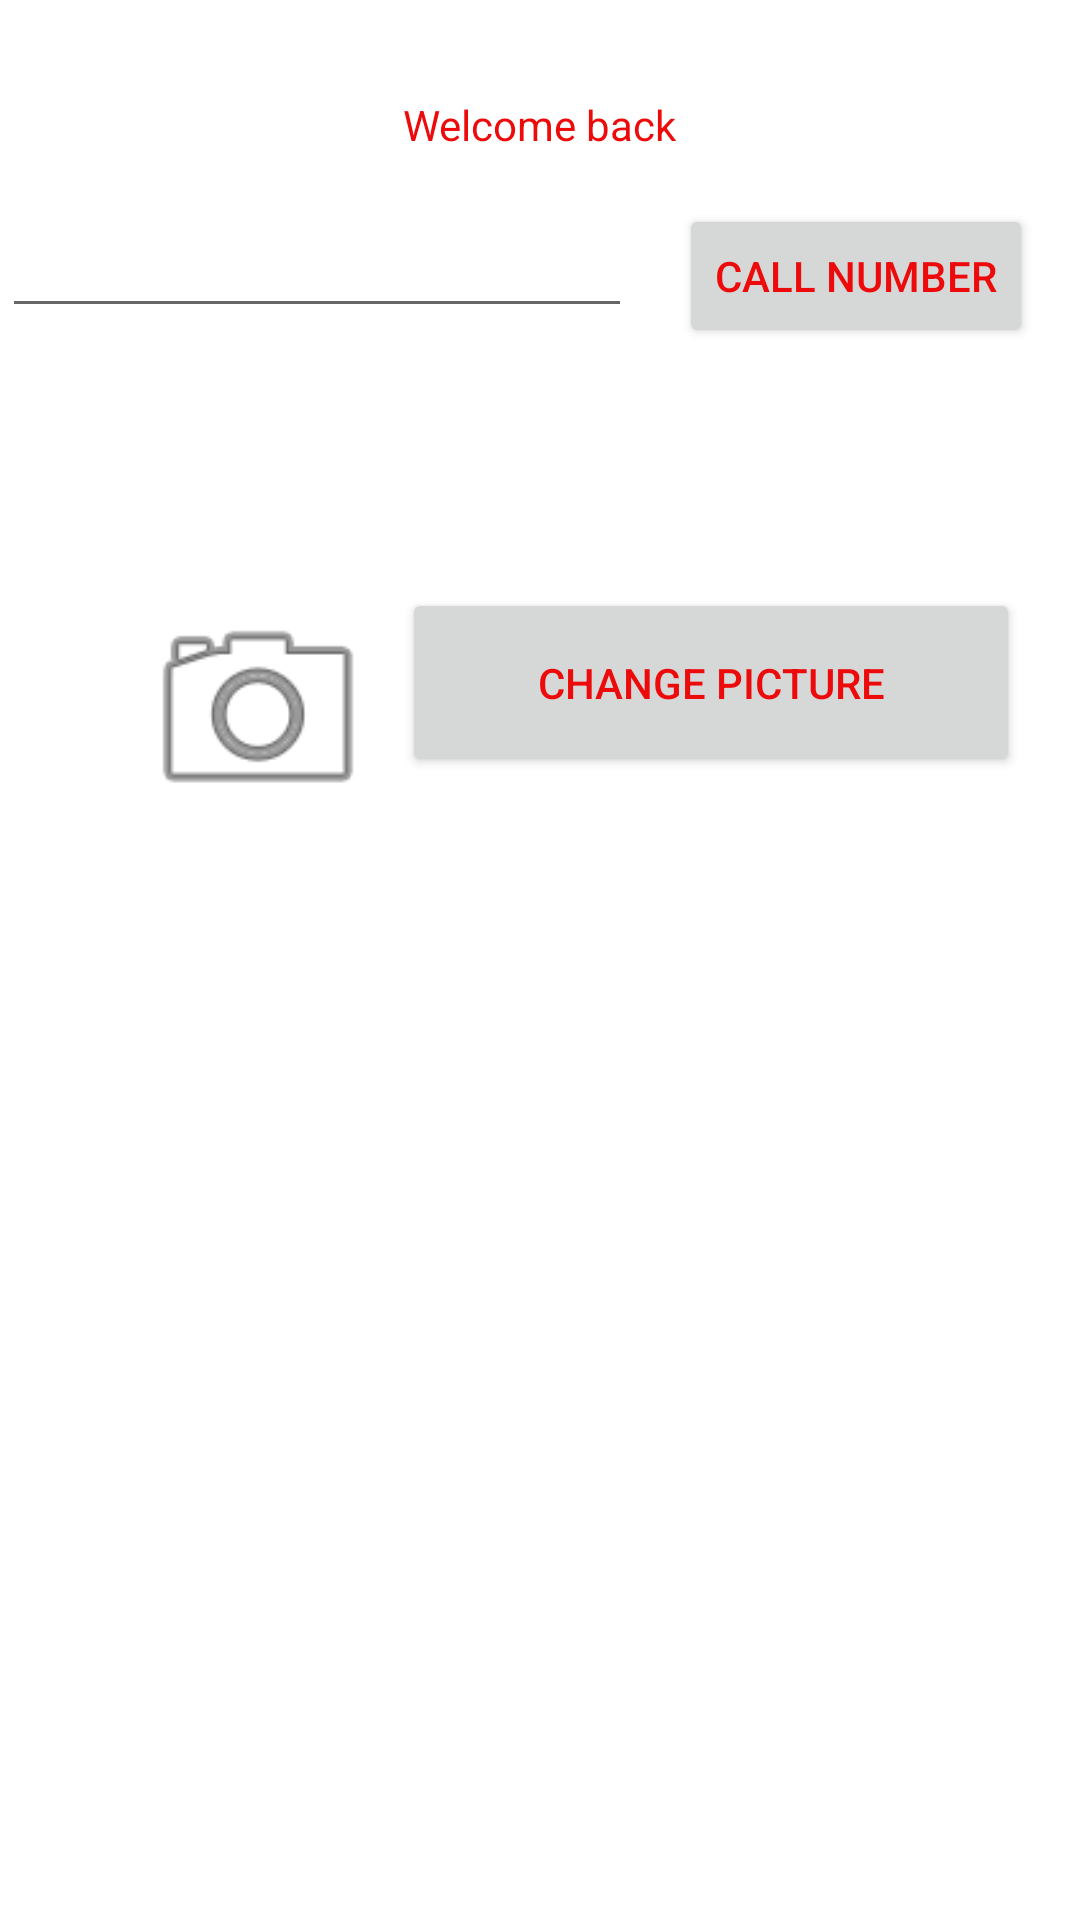

Point at icon controls on the screen. Image size 1080*1920, points as [x,y].
camera: [258,707]
